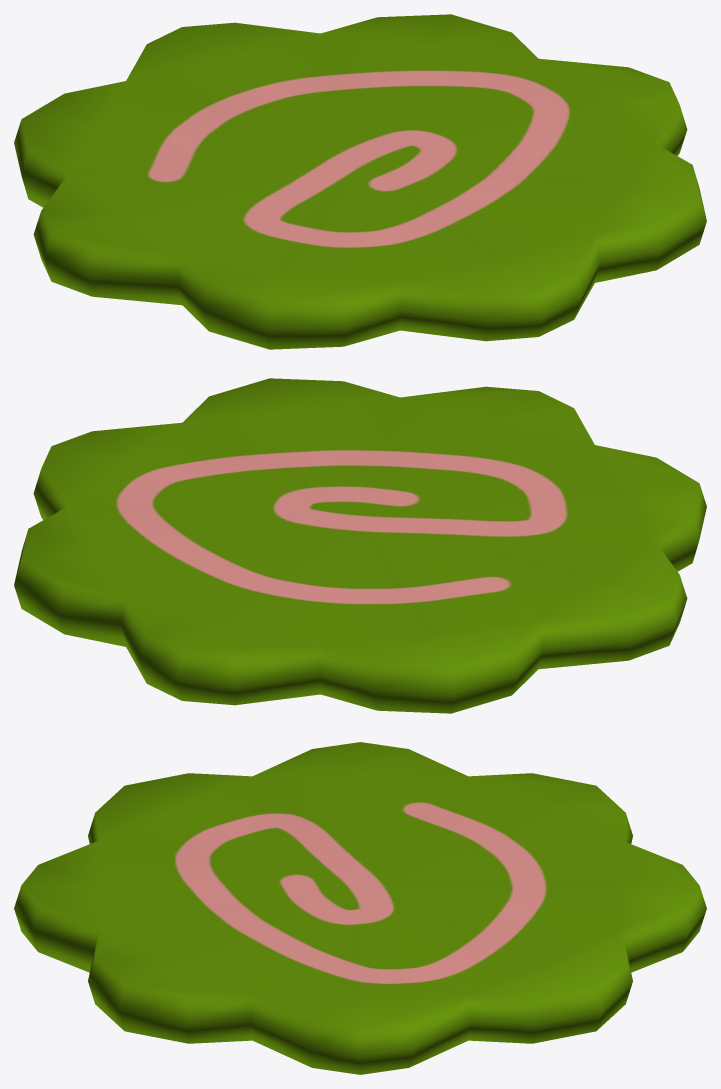
The model's file is Naruto_MDL.fbx.
The picture shows the model from 3 angles, top to bottom: view 1: azimuth 30°, elevation 25°; view 2: azimuth 150°, elevation 25°; view 3: azimuth 270°, elevation 25°; orthographic projection. The views are drawn at different scales.
Visible parts, largest first — view 1: pCylinder1; view 2: pCylinder1; view 3: pCylinder1.
Boxes of the visible parts, x1,y1,x2,y2 form: pCylinder1: (14,14,706,349); pCylinder1: (14,378,706,713); pCylinder1: (14,742,706,1074).
Size of the model in its own units: 22.65 by 1.67 by 22.65.
